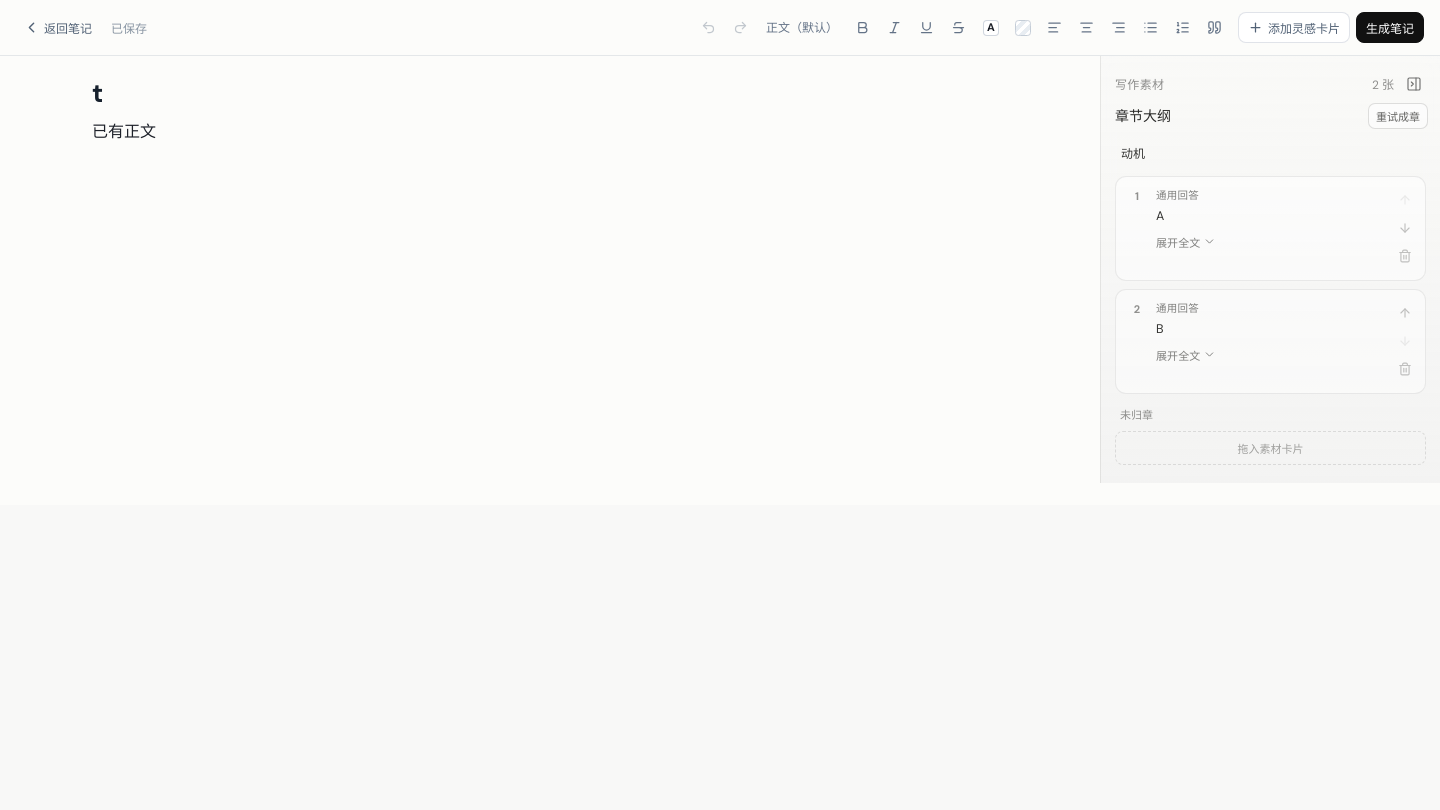
Test: NoteEditor retry outline confirmation › opens confirmation after a successful retry when the body exists
The image size is (1440, 810).
Click the button "重试成章": (1398, 116) [1368,103,1428,129]
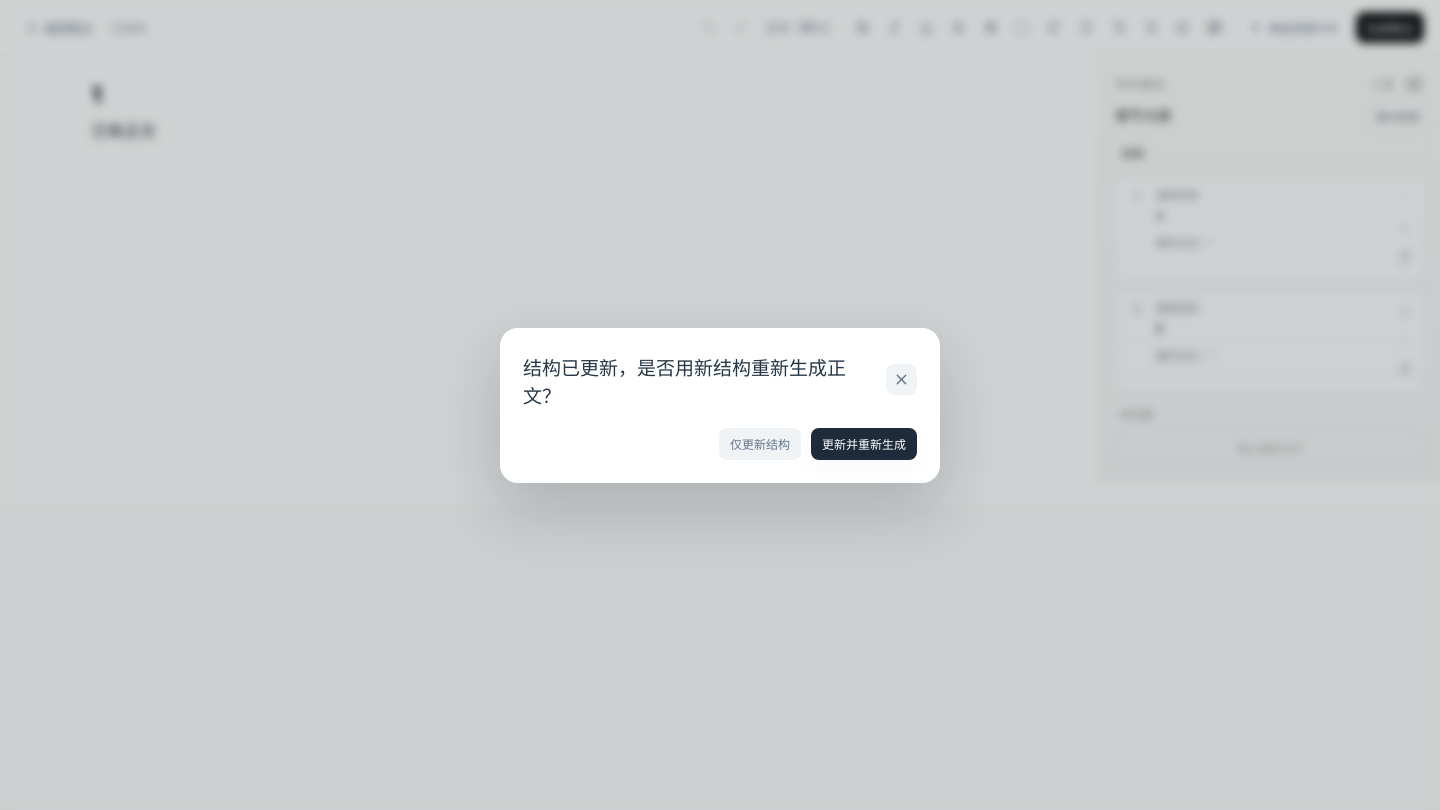
Now the heading "结构已更新，是否用新结构重新生成正文？" is shown, box [523,352,876,408]
